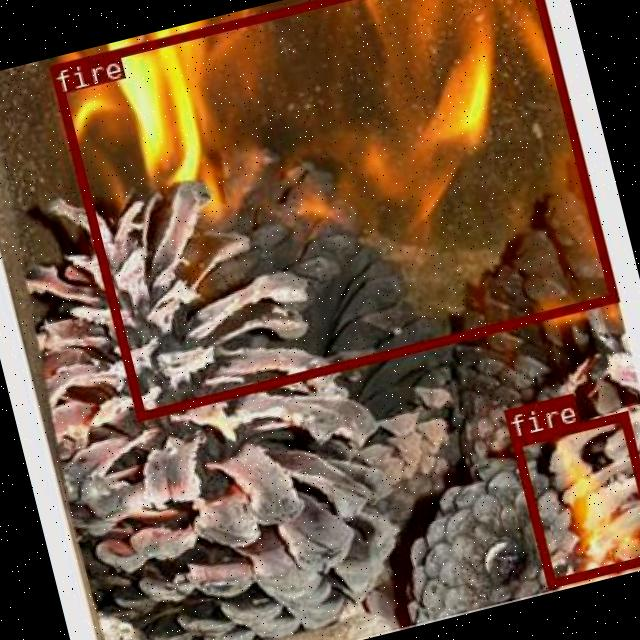fire: (47, 0, 617, 419), (509, 409, 640, 586)
